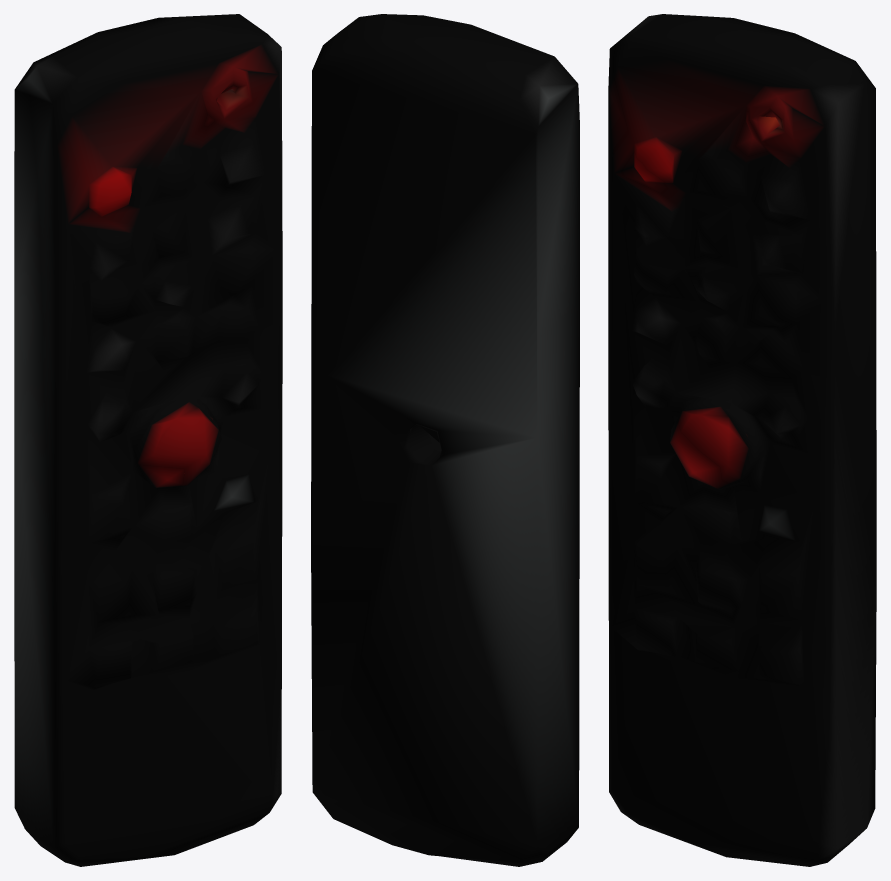
Rendered from gen3d-remote-control-lod1.glb.
3 renders of one model, left to right at view 1: azimuth 30°, elevation 25°; view 2: azimuth 150°, elevation 25°; view 3: azimuth 330°, elevation 25°, orthographic.
Parts seen in each view (by area): view 1: part_0; view 2: part_0; view 3: part_0.
Part boxes in pixels (bbox=[...]): part_0: bbox=[14, 14, 282, 866]; part_0: bbox=[311, 14, 579, 866]; part_0: bbox=[608, 14, 876, 866].
Size of the model in its own units: 0.2946 by 0.9999 by 0.129.
